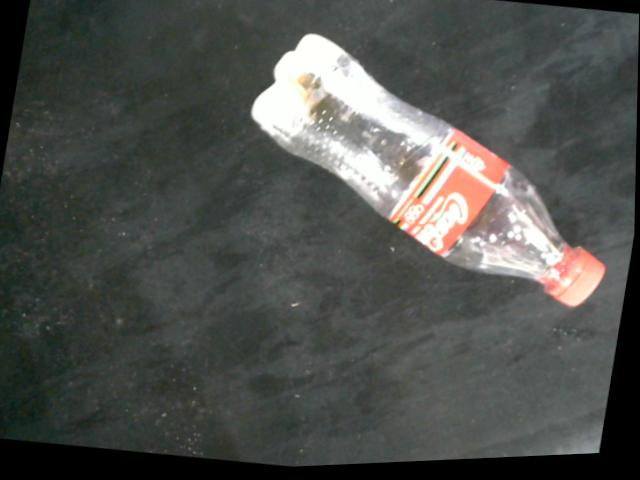bottle: (251, 35, 608, 313)
